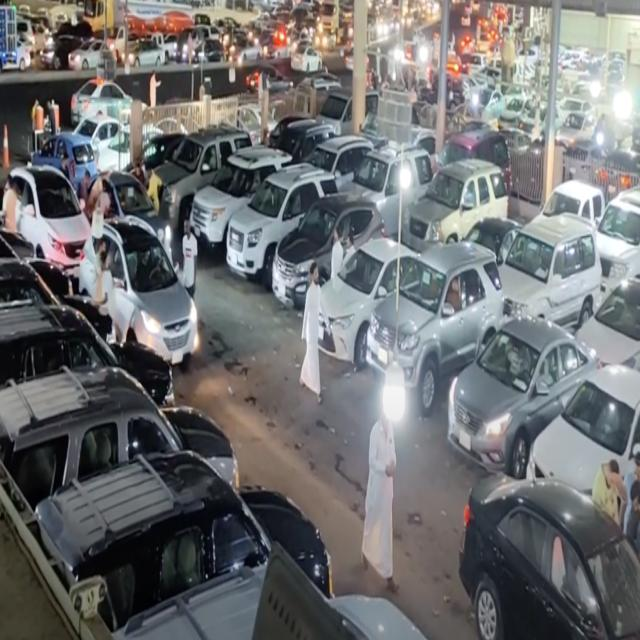license_plate: (459, 429, 471, 451), (172, 348, 183, 366), (377, 348, 388, 364), (276, 282, 286, 295), (317, 327, 325, 340), (230, 252, 238, 265), (193, 223, 200, 237), (76, 104, 82, 109)
